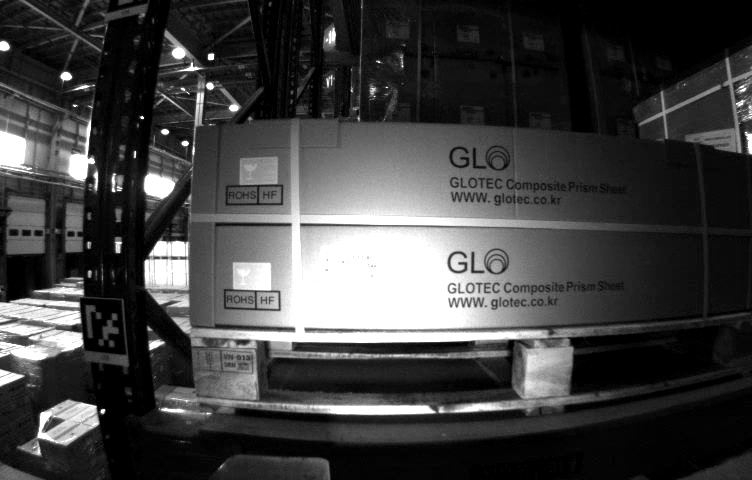True Barcode: (318, 249, 386, 310)
